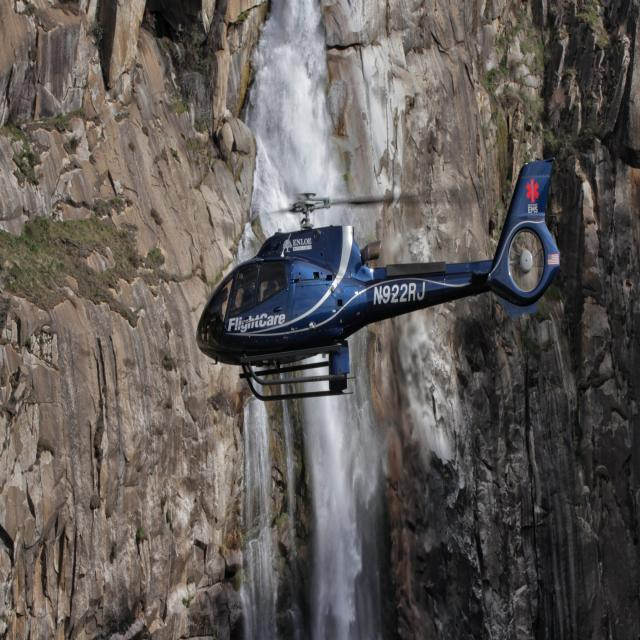helicopter: (193, 118, 576, 423)
